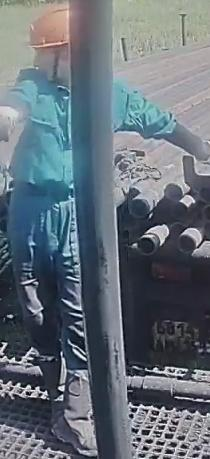gloves: (0, 102, 21, 148), (194, 136, 210, 168)
helmet: (27, 1, 71, 51)
vest: (7, 66, 123, 227)
